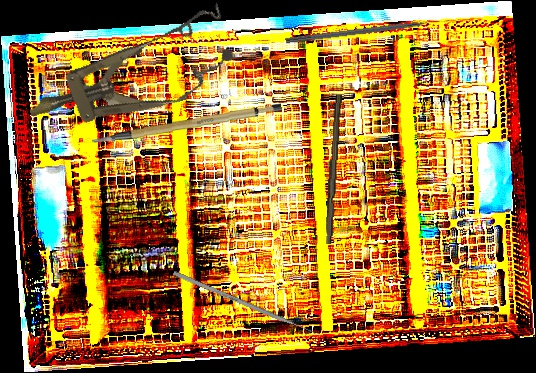Hook Surgical: (285, 16, 450, 46)
Pusher: (172, 270, 324, 339)
Scalpel Handle: (90, 100, 283, 145), (323, 94, 342, 245)
Speculum: (16, 2, 245, 151)
